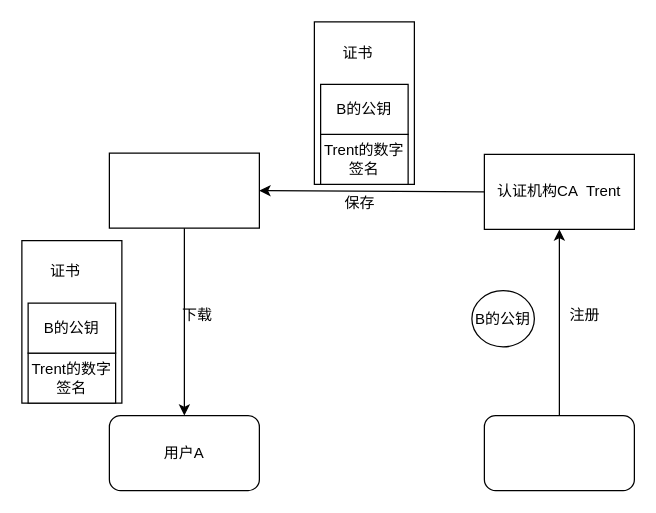
This 656x513 diagram has some shape labels left out. Each missing label, with the box of its shape:
仓库: (108, 152, 259, 228)
用户B: (483, 414, 634, 491)
